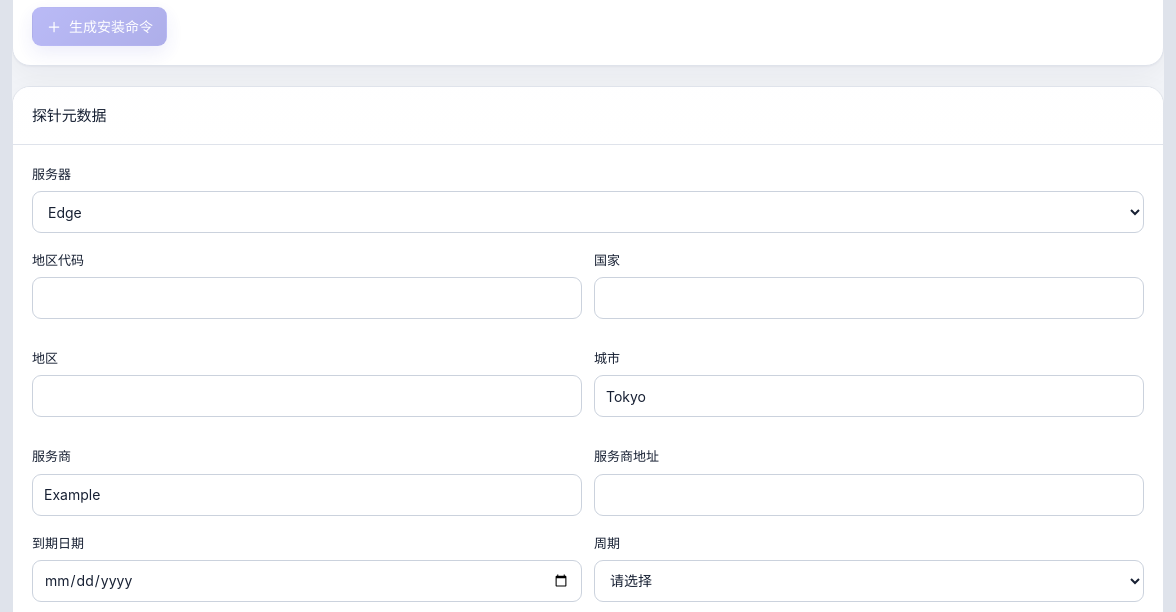
Test case: React Dashboard workflows › preserves all probe metadata fields and UTC expiry semantics
This screenshot has width=1176, height=612.
(page scrolled)
Type " JP " into the field named "国家" at (869, 298), box [594,277,1144,319]
Type "https://provider.example" into the field named "服务商地址" at (869, 495), box [594,474,1144,516]
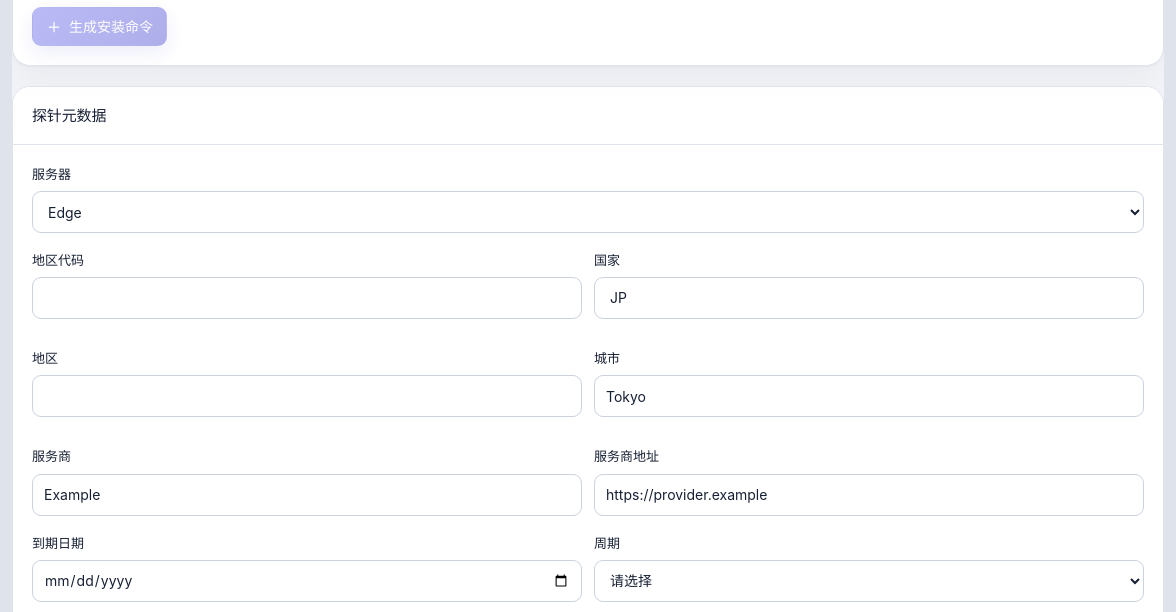
Type "2026-10-01" into the date field named "到期日期" at (307, 581), box [32,560,582,602]
(page scrolled)
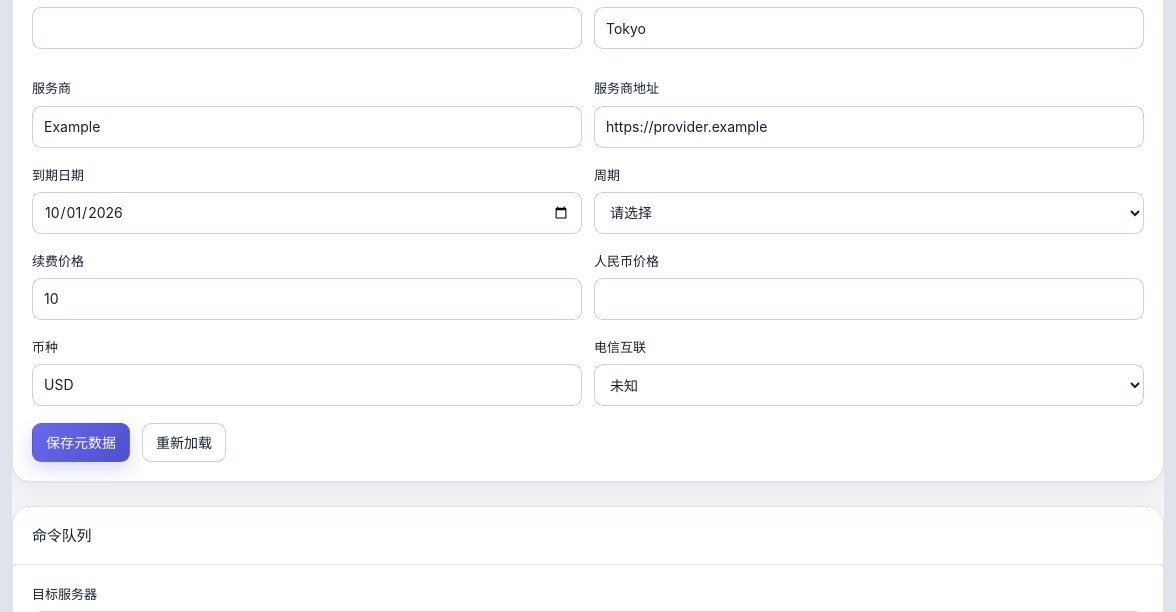
Type "72" into the number field named "人民币价格" at (869, 299), box [594,278,1144,320]
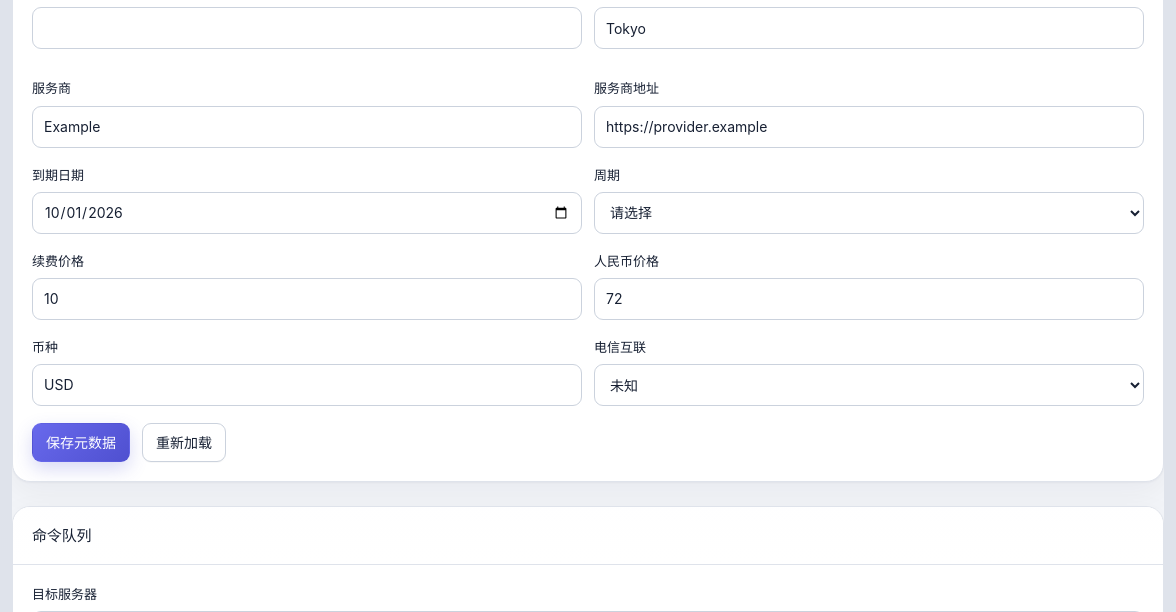
Select "月" in the dropdown named "周期" at (869, 213), box [594,192,1144,234]
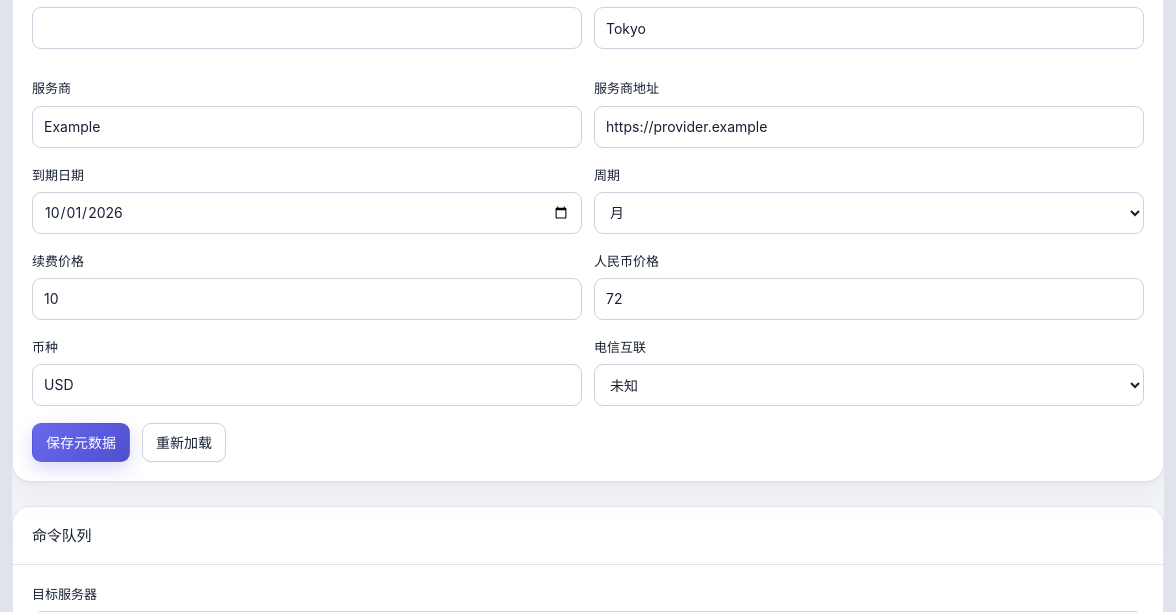
Select "付费" in the dropdown named "电信互联" at (869, 385), box [594,364,1144,406]
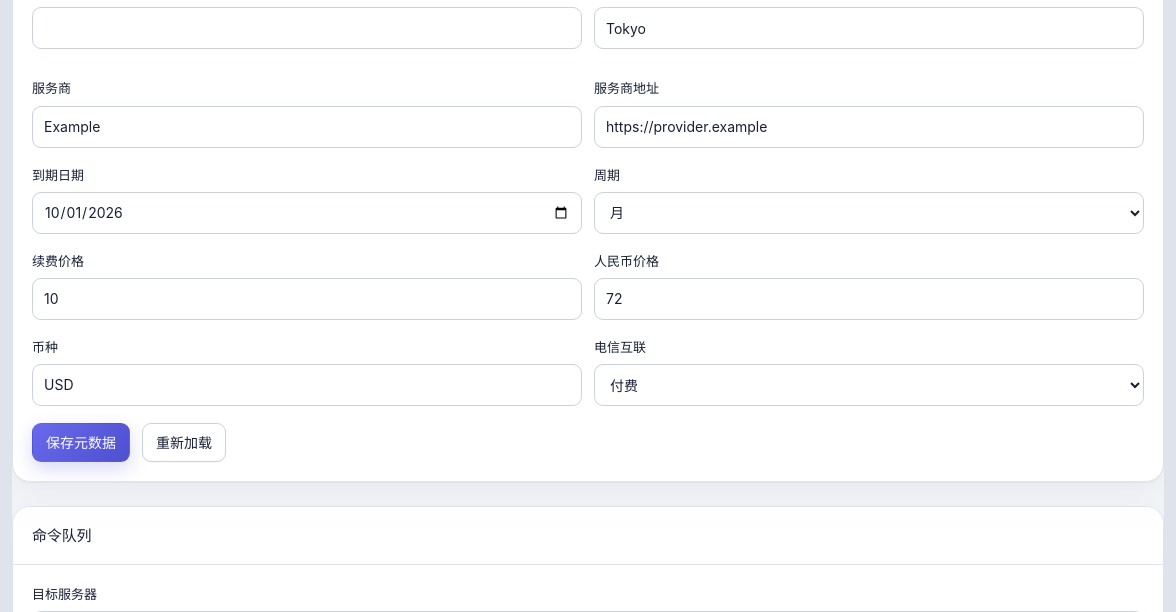
Click the button labelled "保存元数据" at (81, 442), box [32,423,130,462]
(page scrolled)
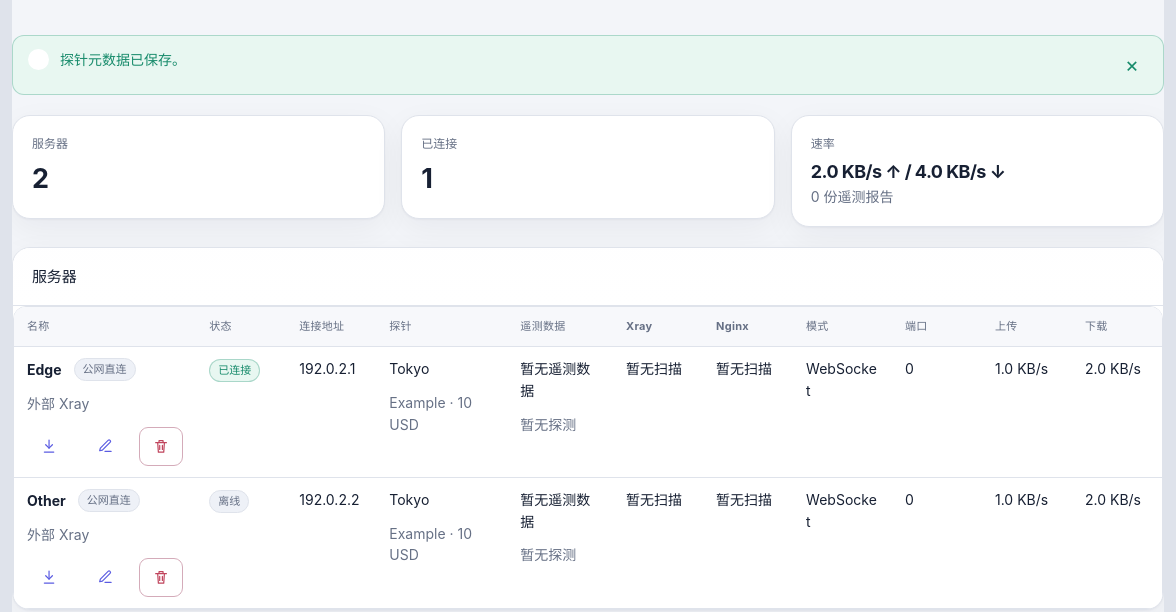
Expected: the text "探针元数据已保存。" is shown, [60,51,186,68]
